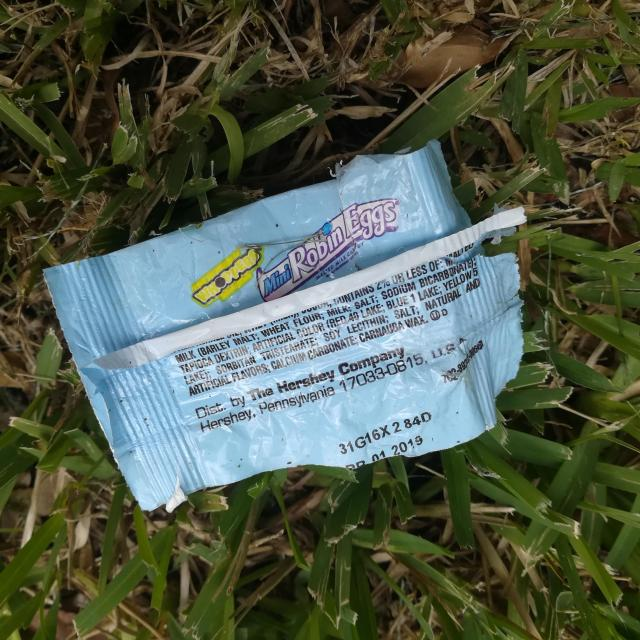litter: (42, 141, 530, 513)
